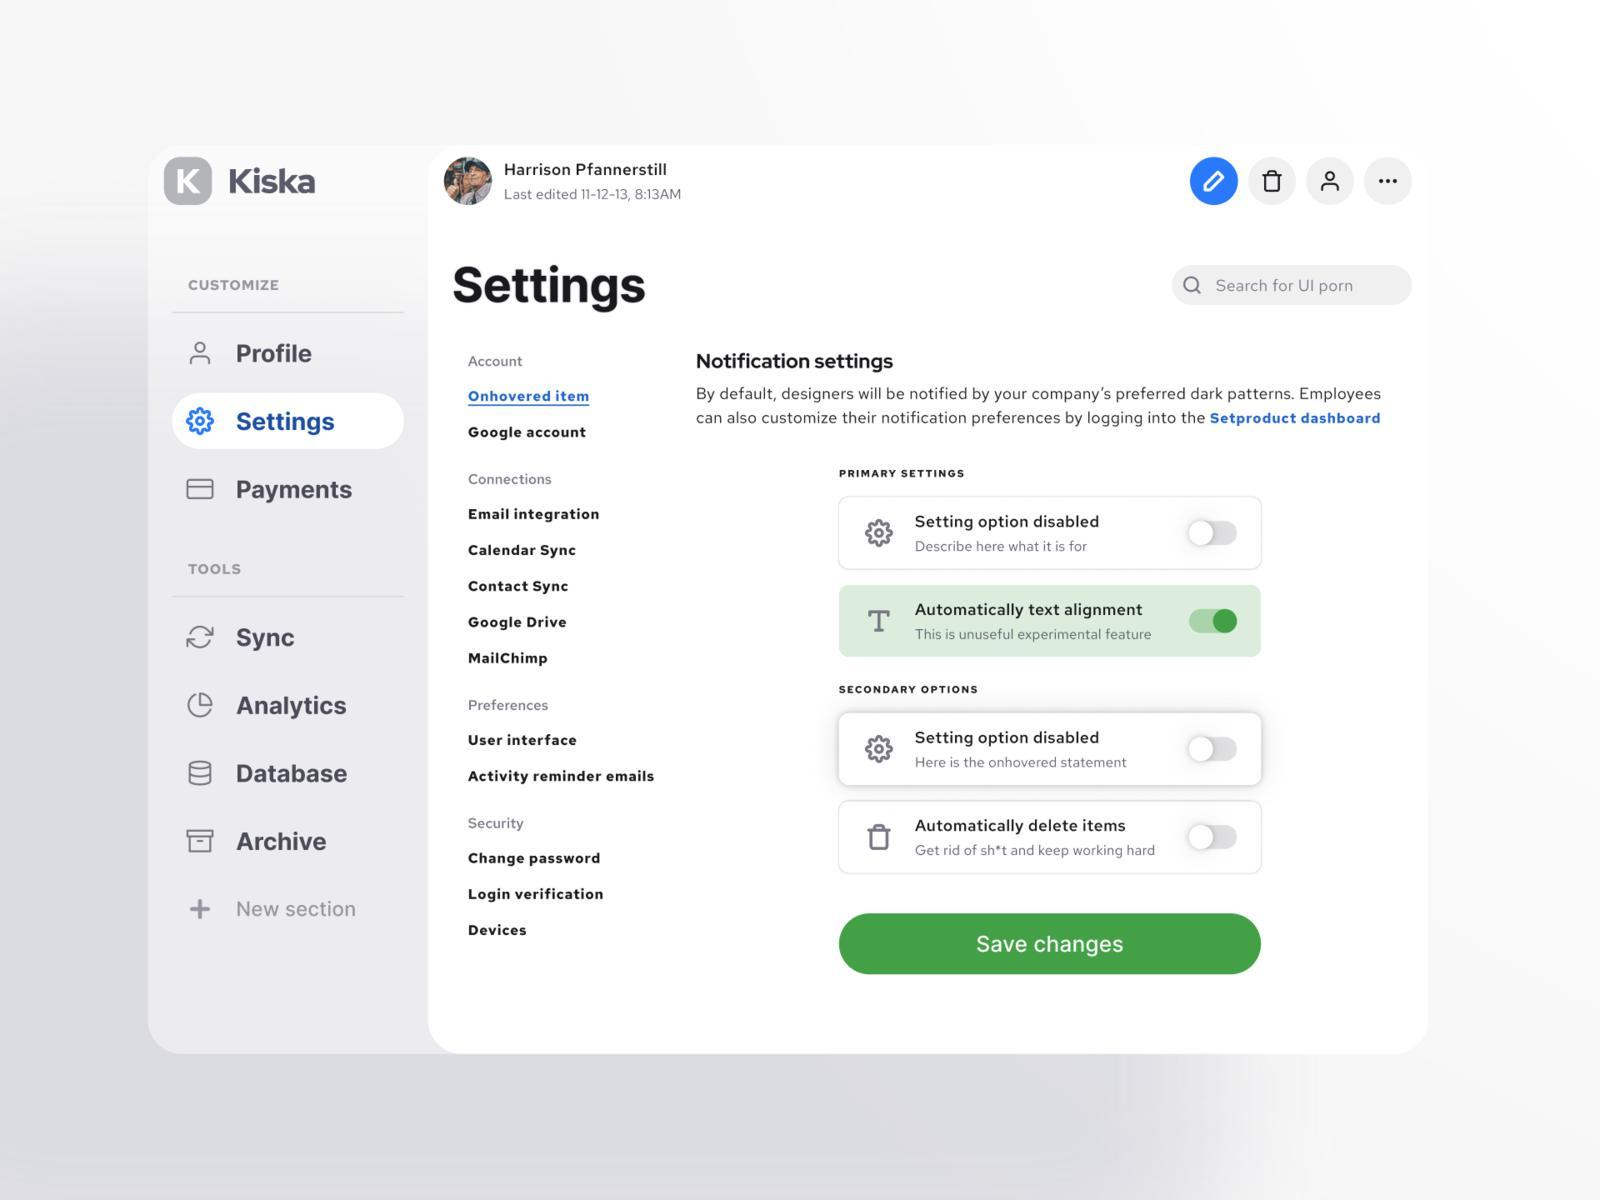button: (842, 913, 1261, 978), (174, 395, 407, 451)
icon: (1247, 158, 1294, 205), (1311, 158, 1351, 208), (1192, 160, 1235, 204), (178, 332, 220, 372), (1371, 161, 1412, 202), (860, 604, 901, 642), (181, 474, 218, 508), (186, 822, 220, 858), (864, 518, 900, 552), (184, 624, 220, 657), (184, 760, 220, 792), (864, 822, 894, 858), (860, 735, 894, 765), (190, 689, 218, 725), (188, 894, 214, 921)
input: (1170, 267, 1412, 308)
label: (451, 262, 664, 321), (915, 812, 1128, 845), (913, 722, 1114, 753), (915, 600, 1150, 625), (698, 348, 901, 376), (831, 676, 997, 708), (467, 766, 660, 792), (912, 511, 1104, 534), (231, 758, 351, 792), (227, 897, 360, 928), (236, 475, 351, 508), (234, 824, 330, 862), (467, 848, 607, 874), (465, 421, 593, 447), (237, 692, 350, 721), (467, 387, 597, 412), (465, 885, 609, 908), (465, 729, 577, 755), (470, 541, 581, 567), (464, 507, 603, 527), (840, 464, 963, 487), (467, 577, 580, 601), (231, 338, 323, 367), (465, 613, 567, 635), (232, 624, 294, 658), (467, 648, 551, 671), (462, 475, 559, 494), (461, 354, 540, 376), (470, 918, 532, 942), (465, 814, 528, 837), (467, 700, 552, 715)
switch: (1187, 822, 1240, 855), (1192, 518, 1238, 550), (1188, 737, 1241, 765), (1188, 610, 1241, 635)
